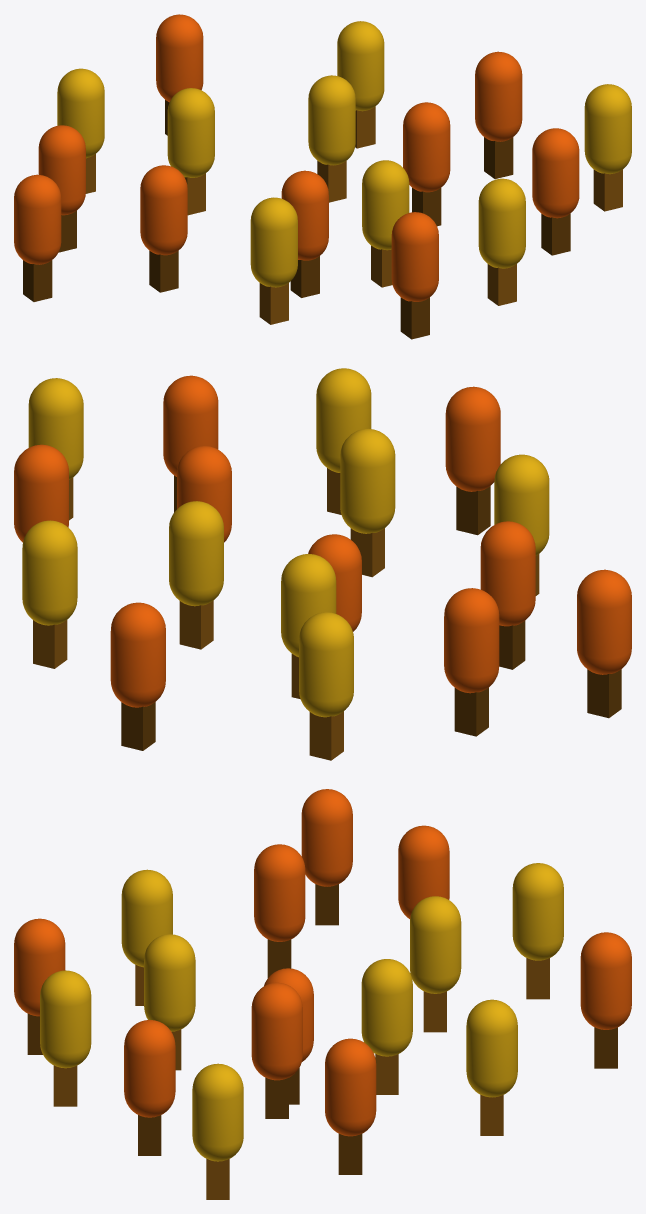
Rendered from autumn_forest.fbx.
The picture shows the model from 3 angles, top to bottom: view 1: azimuth 30°, elevation 25°; view 2: azimuth 150°, elevation 25°; view 3: azimuth 270°, elevation 25°; orthographic projection. The views are drawn at different scales.
Visible parts, largest first — view 1: Small autumn forest; view 2: Small autumn forest; view 3: Small autumn forest.
Boxes of the visible parts, x1,y1,x2,y2 form: Small autumn forest: (14, 14, 631, 339); Small autumn forest: (14, 368, 631, 760); Small autumn forest: (14, 789, 631, 1199).
Size of the model in its own units: 84370 by 23426 by 74190.
4 materials, 4 textured.
